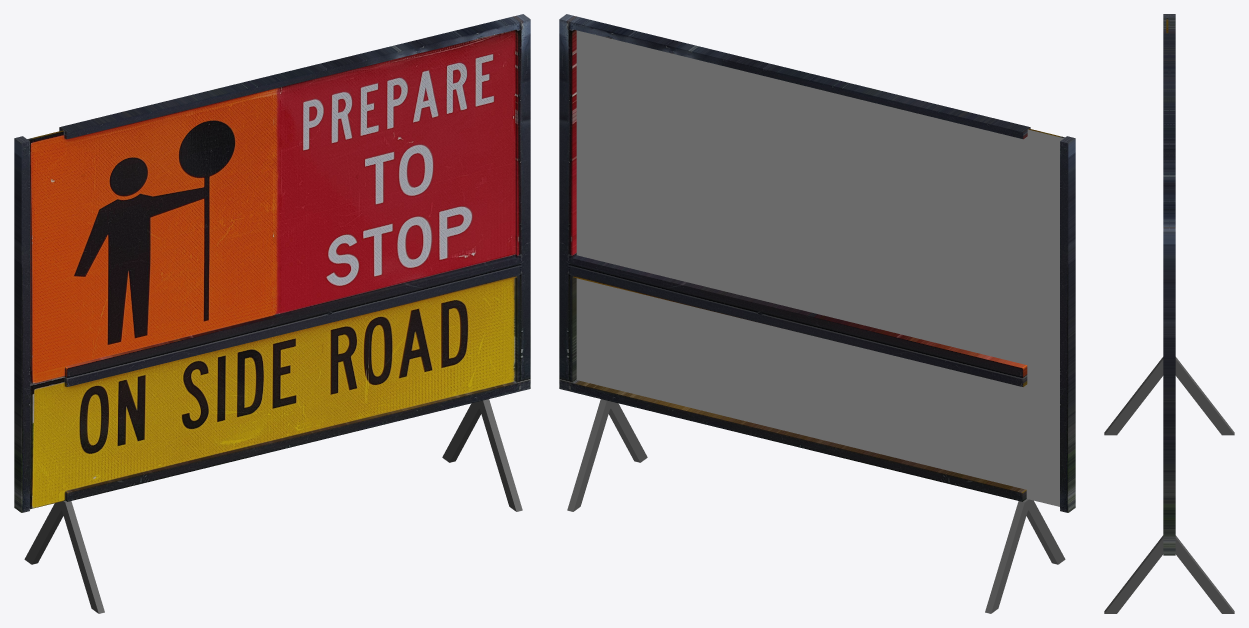
Rendered from ROADWORKS_PREPARE-TO-STOP.glb.
3 renders of one model, left to right at view 1: azimuth 30°, elevation 25°; view 2: azimuth 150°, elevation 25°; view 3: azimuth 270°, elevation 25°, orthographic. The views are drawn at different scales.
Parts seen in each view (by area): view 1: ROADWORKS_PREPARE-TO-STOP; view 2: ROADWORKS_PREPARE-TO-STOP; view 3: ROADWORKS_PREPARE-TO-STOP.
Part boxes in pixels (left/top/right/bottom): ROADWORKS_PREPARE-TO-STOP: left=14, top=14, right=530, bottom=613; ROADWORKS_PREPARE-TO-STOP: left=559, top=14, right=1075, bottom=613; ROADWORKS_PREPARE-TO-STOP: left=1104, top=14, right=1234, bottom=613.
Bounding box in the file's own units: 2.46 × 2.11 × 0.6234.
3 materials, 1 textured.
